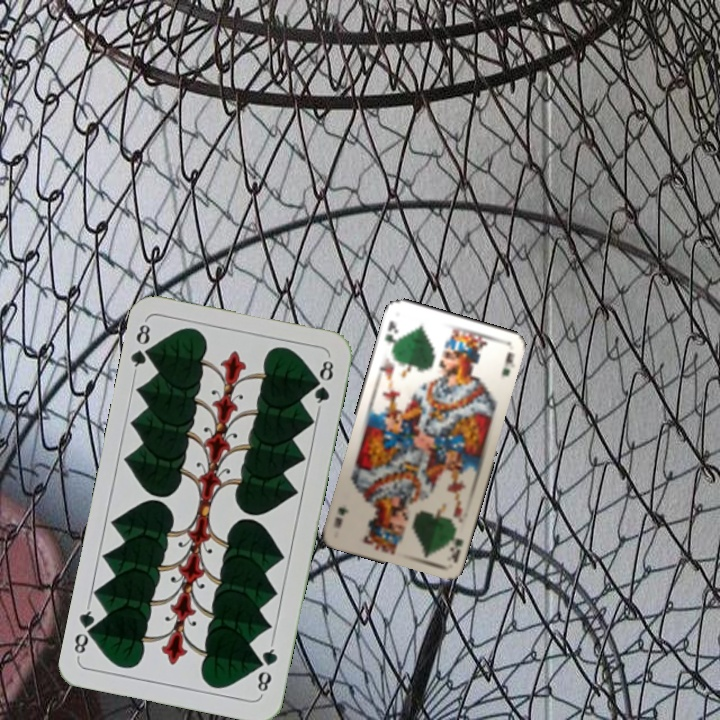G8: (126, 317, 157, 376), (253, 639, 280, 698)
GK: (446, 526, 466, 566), (380, 317, 401, 353)
